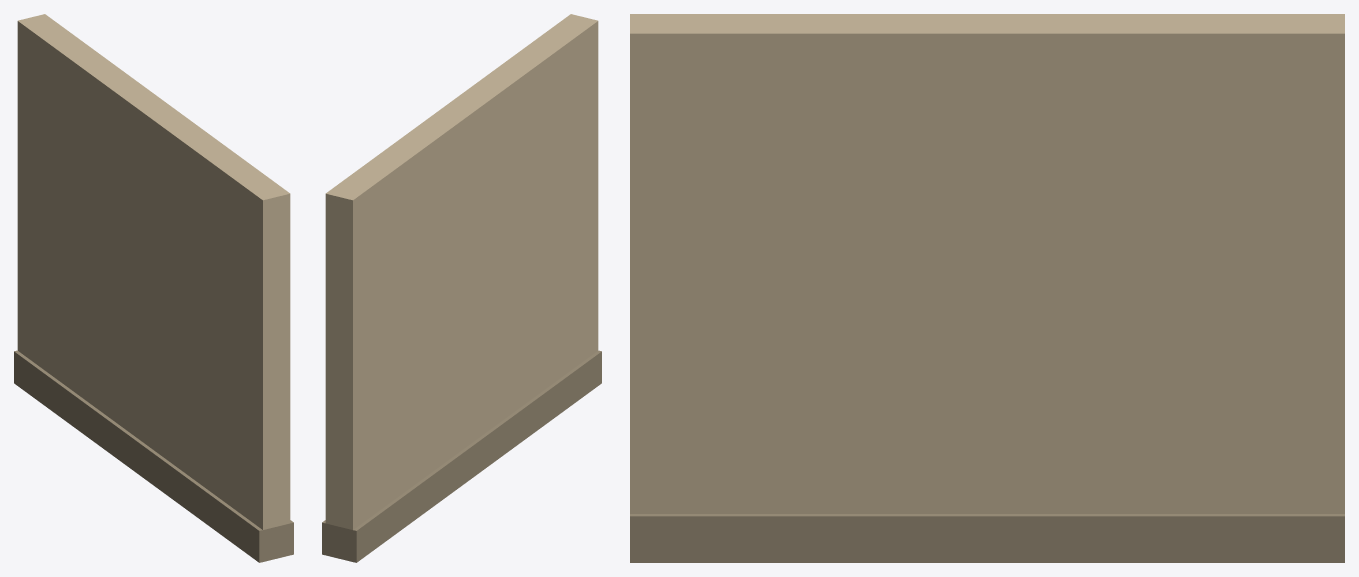
File: Parede.fbx
3 renders of one model, left to right at view 1: azimuth 30°, elevation 25°; view 2: azimuth 150°, elevation 25°; view 3: azimuth 270°, elevation 25°, orthographic. The views are drawn at different scales.
Visible parts, largest first — view 1: Cubo.015; view 2: Cubo.015; view 3: Cubo.015.
Part boxes in pixels (x1=…): Cubo.015: x1=14, y1=14, x2=293, y2=562; Cubo.015: x1=322, y1=14, x2=601, y2=562; Cubo.015: x1=630, y1=14, x2=1344, y2=562.
Size of the model in its own units: 100 by 1000 by 1230.
